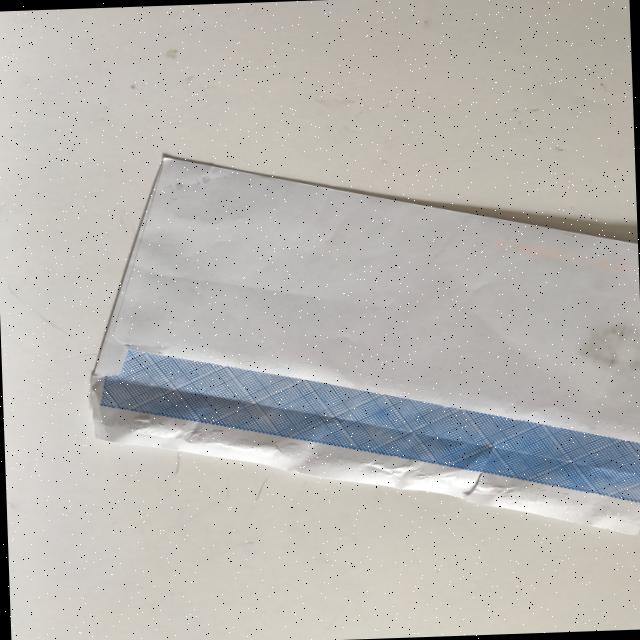paper: (81, 136, 640, 554)
